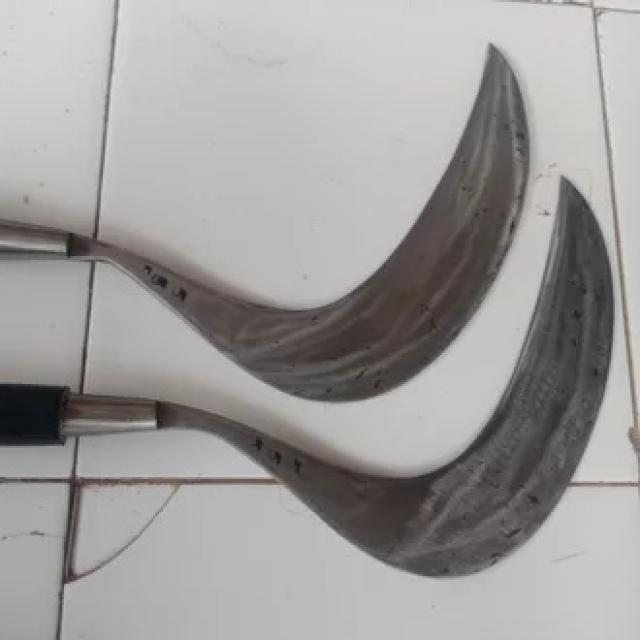machete: (0, 172, 616, 574), (0, 39, 533, 402)
